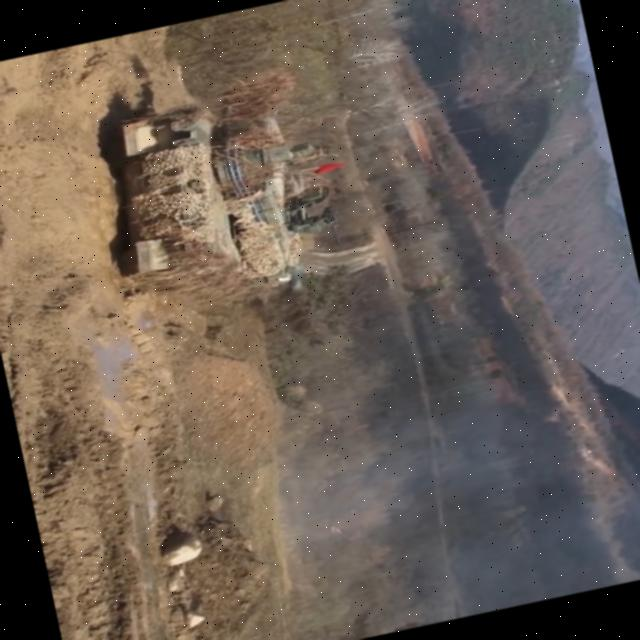korea tank: (78, 66, 361, 373)
